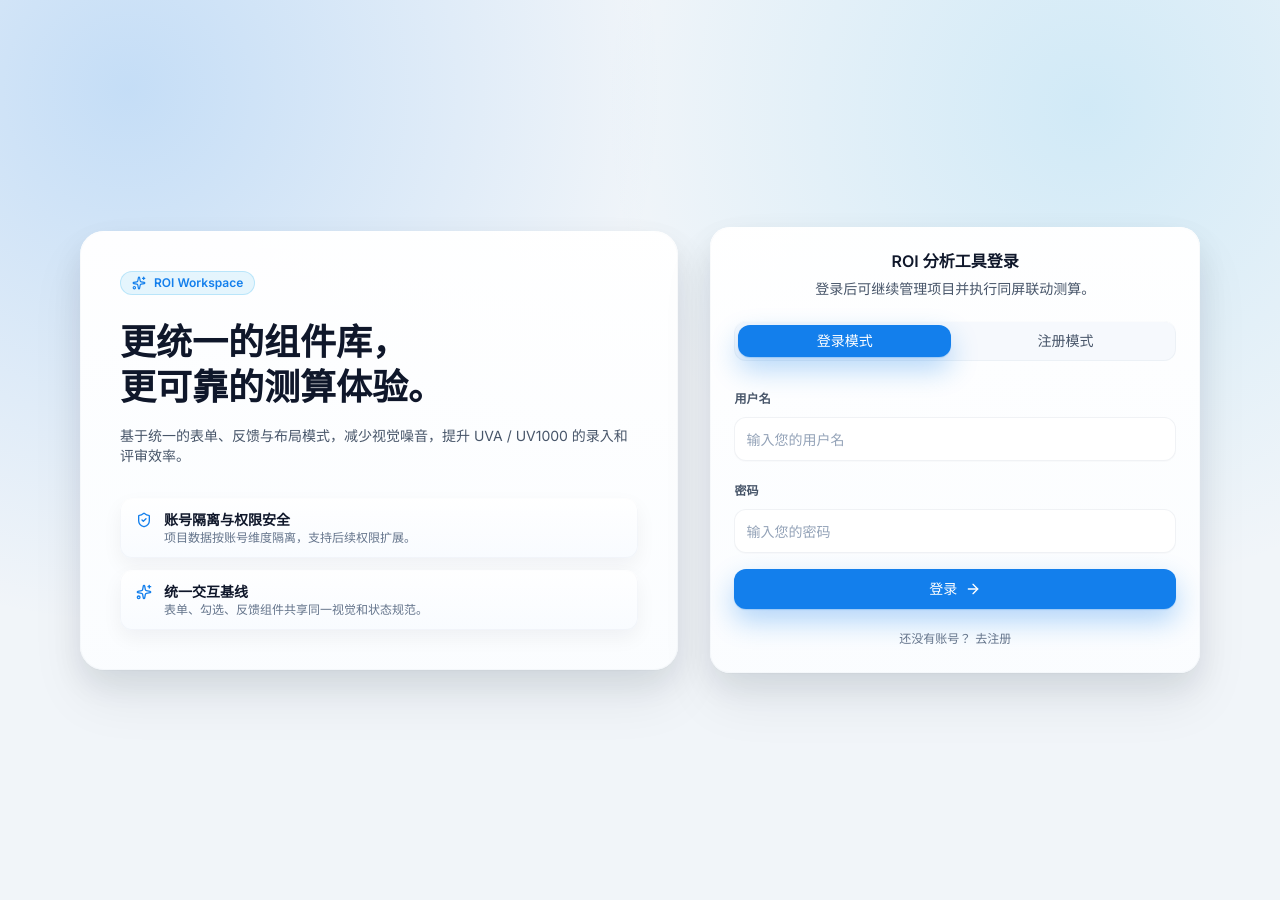
Test: Login page › switches between login and register modes
The width and height of the screenshot is (1280, 900).
Expected: the button "登录" is shown, left=734, top=569, right=1176, bottom=609
Click the button "去注册" at (993, 639), box left=975, top=631, right=1011, bottom=647
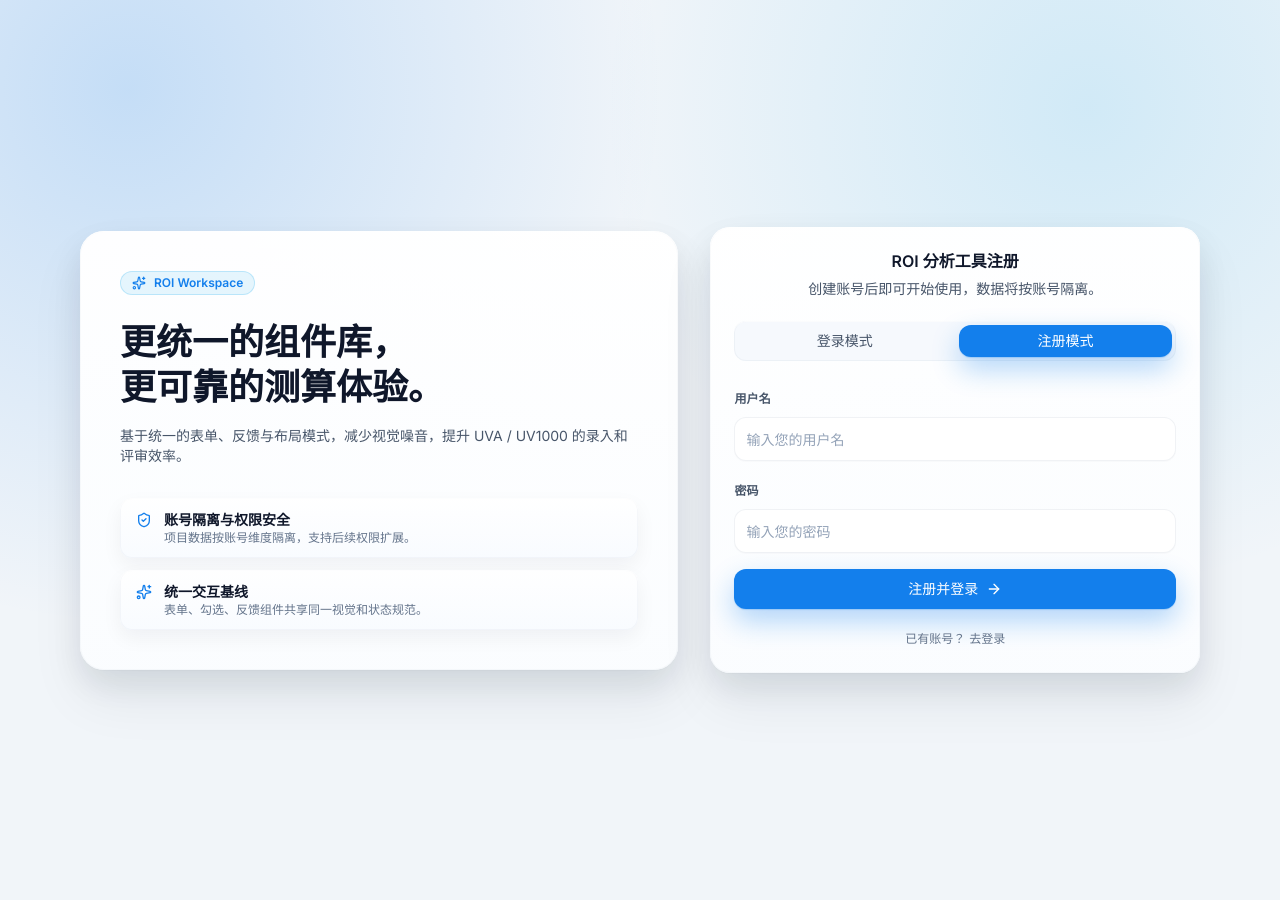
Result: the button "注册并登录" is shown at left=734, top=569, right=1176, bottom=609
